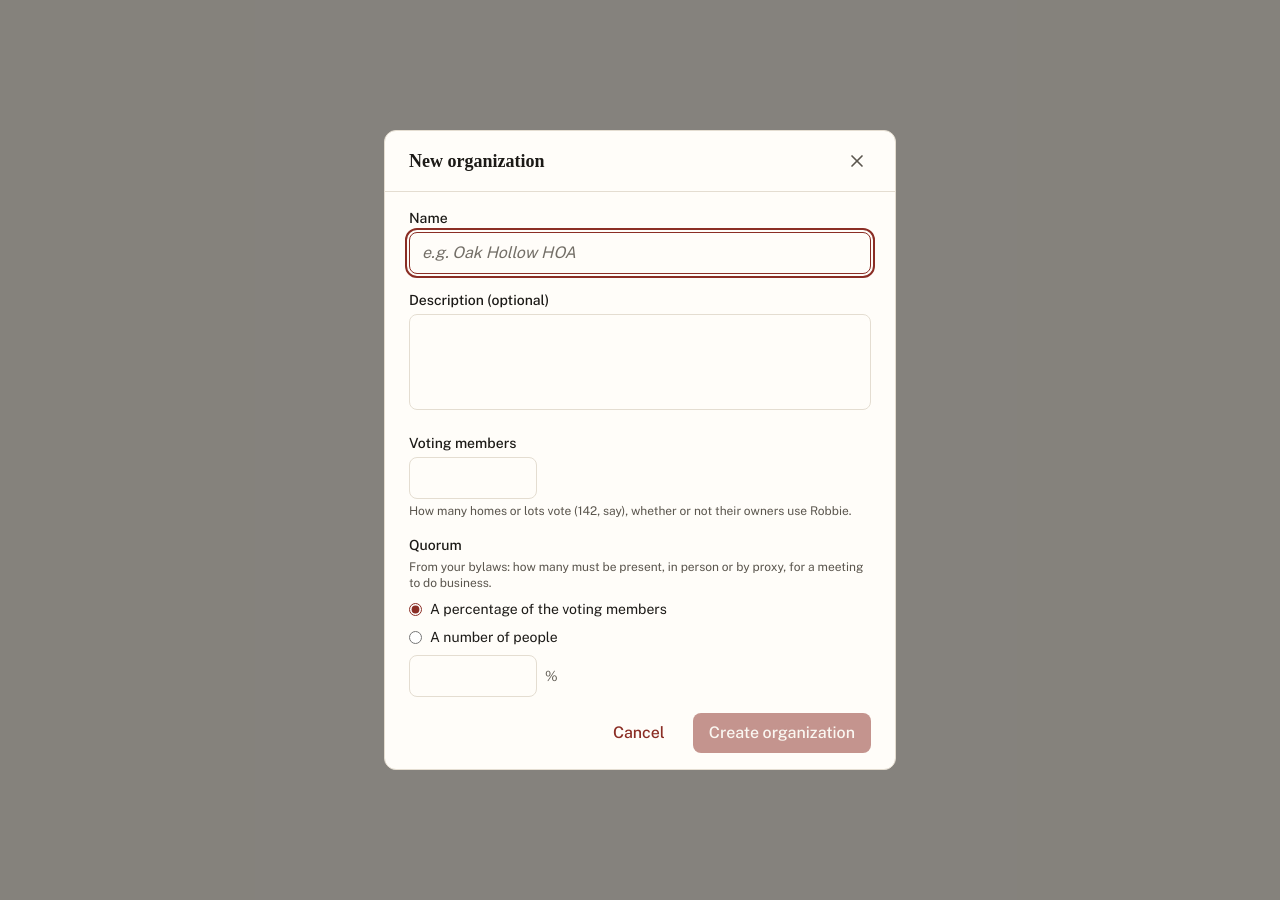
NewOrganizationModal › shows the server's message, such as the limit on organizations owned
This screenshot has width=1280, height=900.
Type "Fourth" into the field labelled "Name" at (640, 253), box [409,232,871,274]
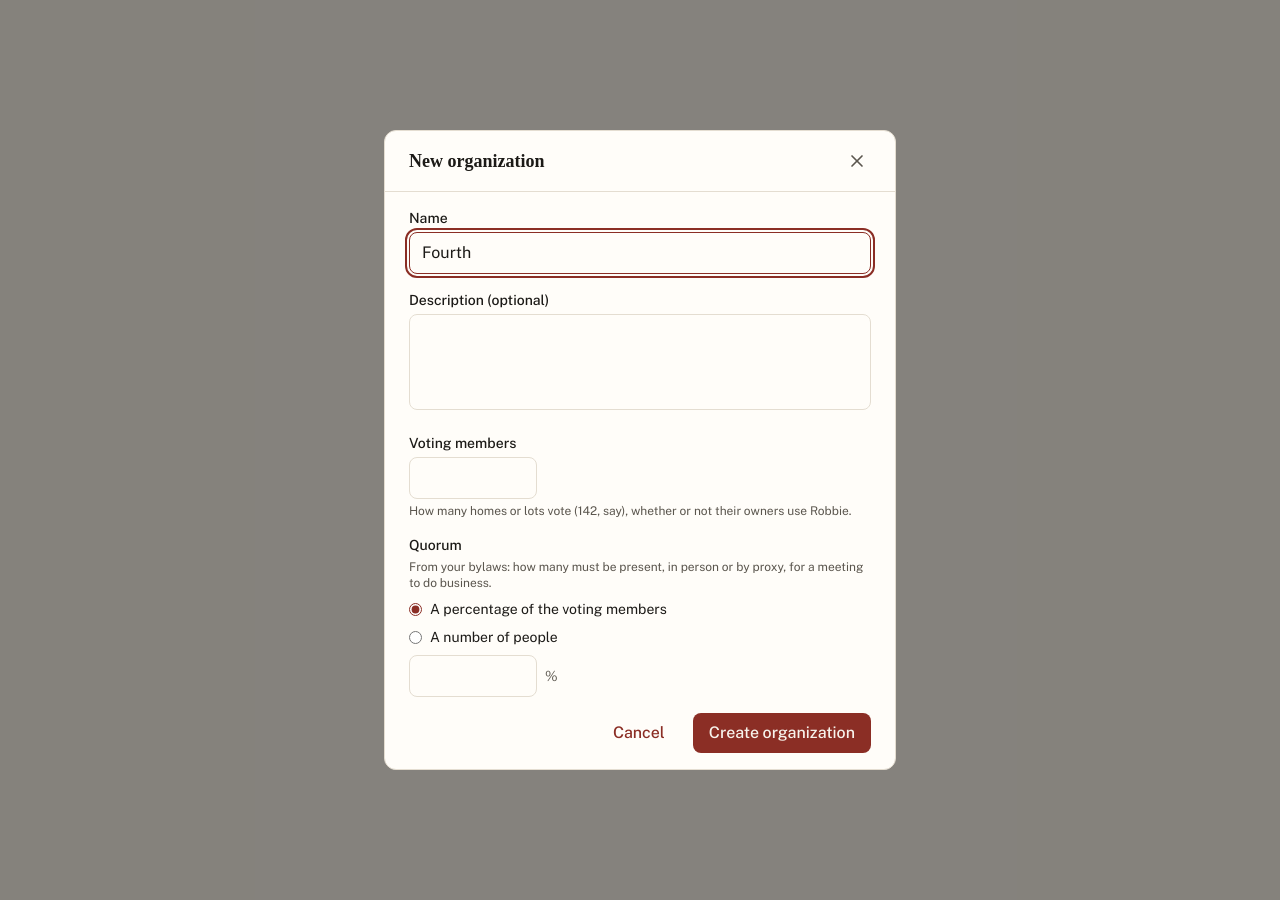
Type "40" into the field labelled "Voting members" at (473, 478), box [409,457,537,499]
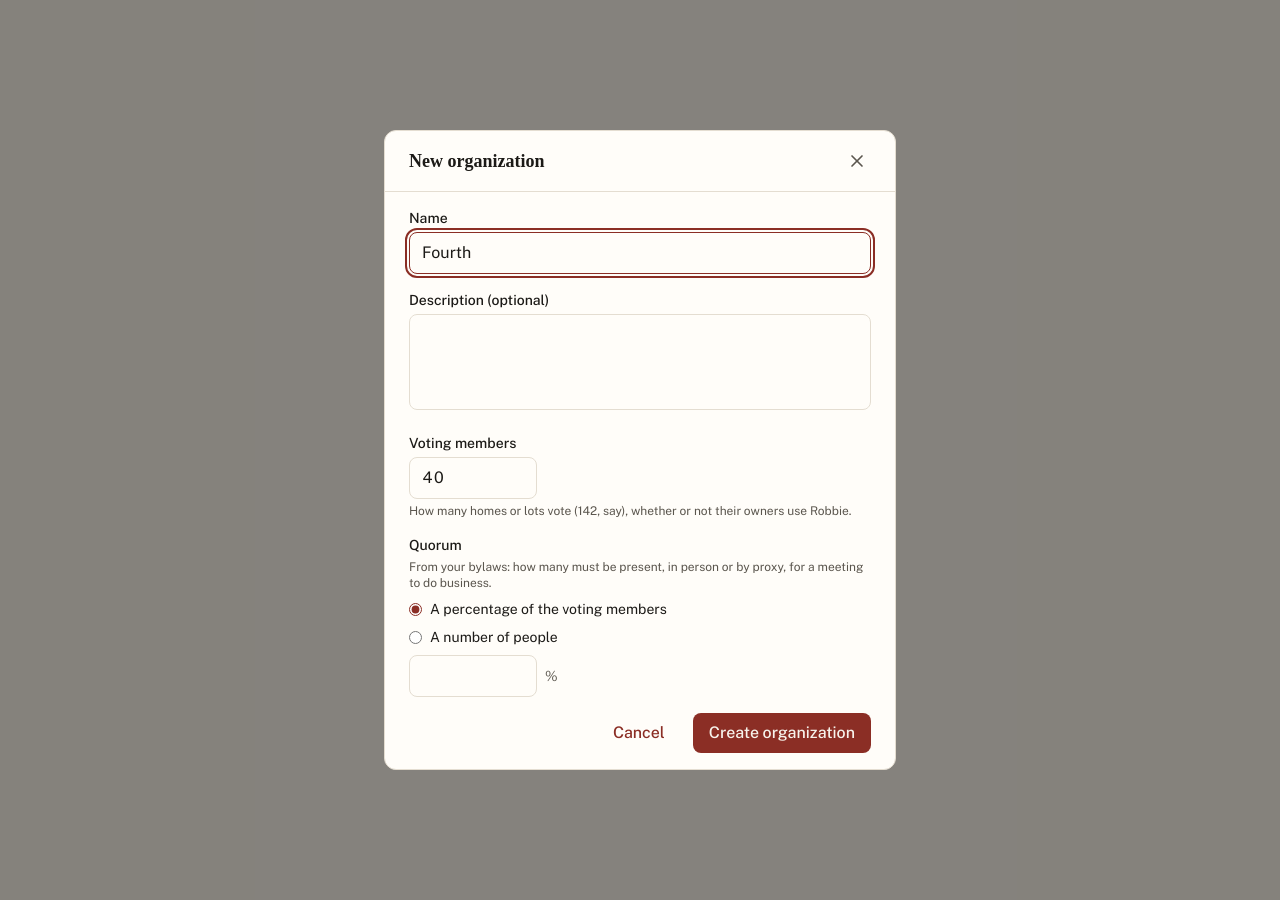
Type "25" into the field named "Quorum percentage" at (473, 676), box [409,655,537,697]
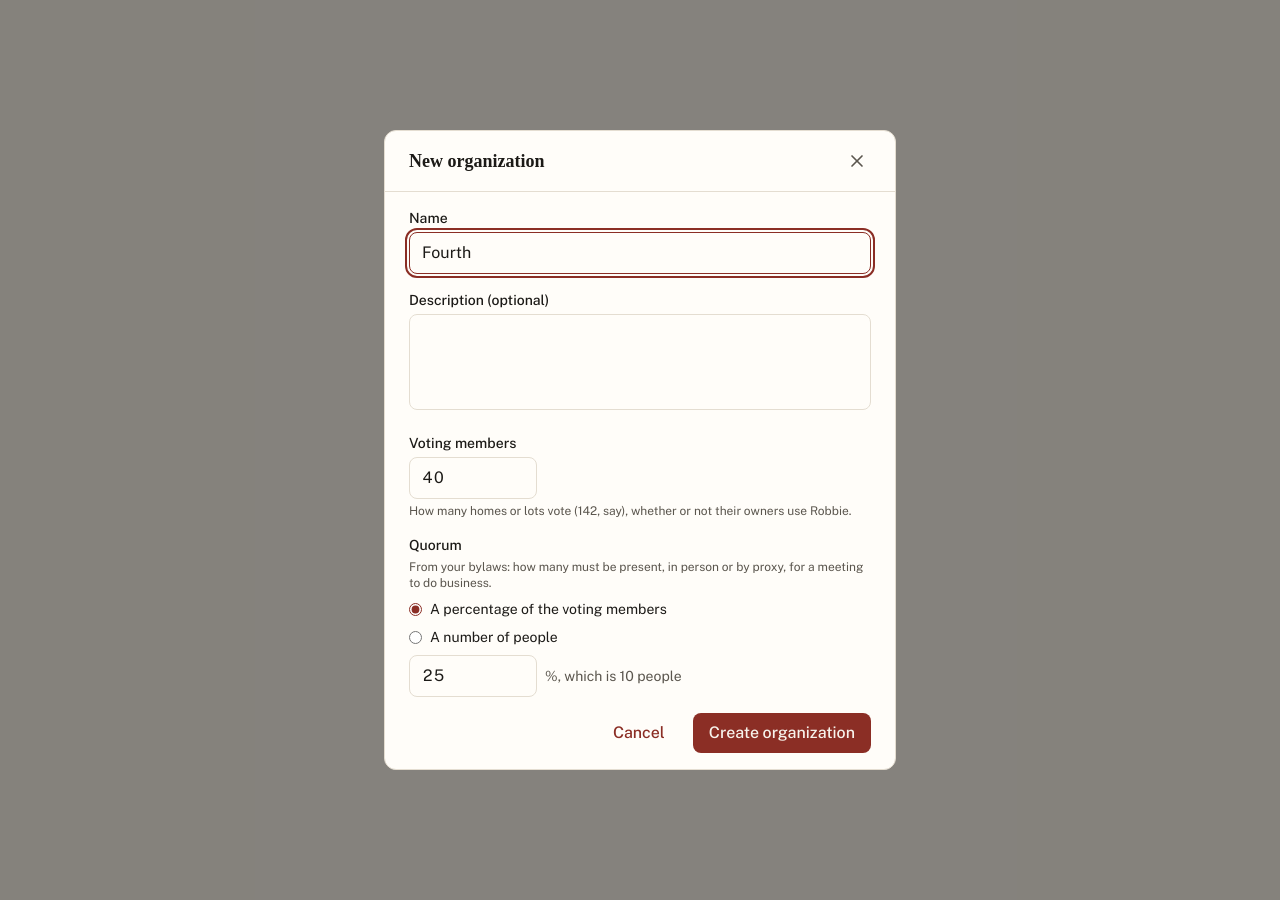
Click the button "Create organization" at (782, 733), box [693,713,871,753]
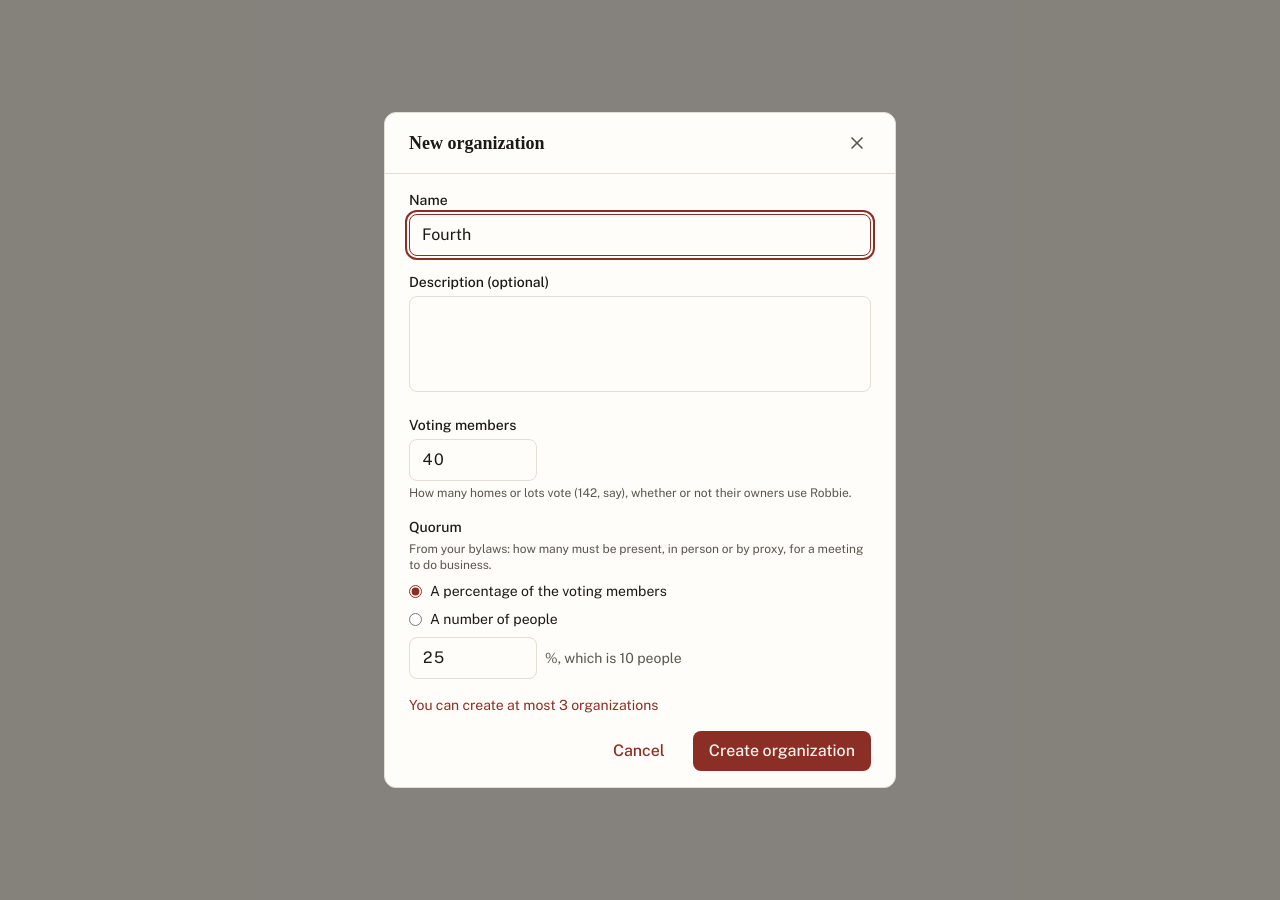
expect the text "You can create at most 3 organizations" is shown: met, box [409,697,658,713]
